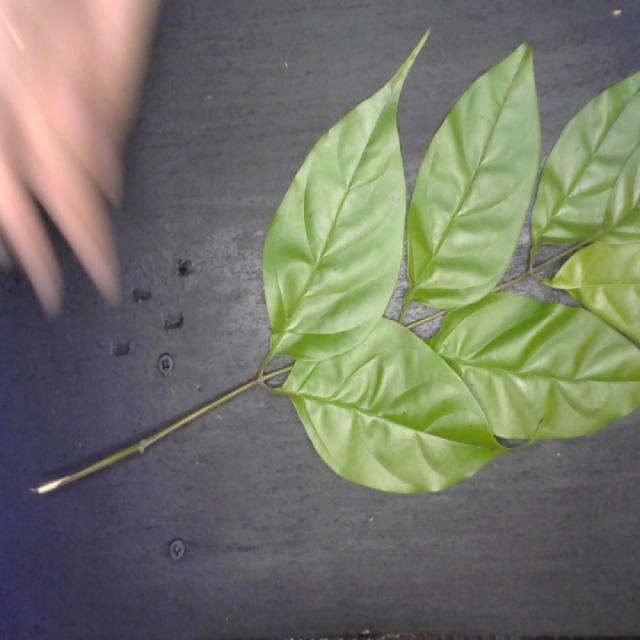biodegradable: (251, 16, 640, 502)
